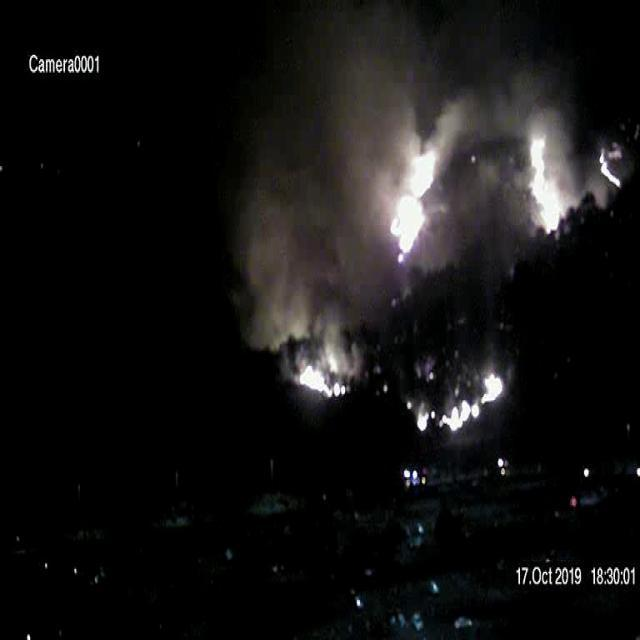Fire: (389, 145, 439, 256), (525, 128, 572, 235), (414, 376, 504, 431), (292, 358, 346, 398), (596, 144, 624, 186)
Smoke: (227, 35, 379, 348)
